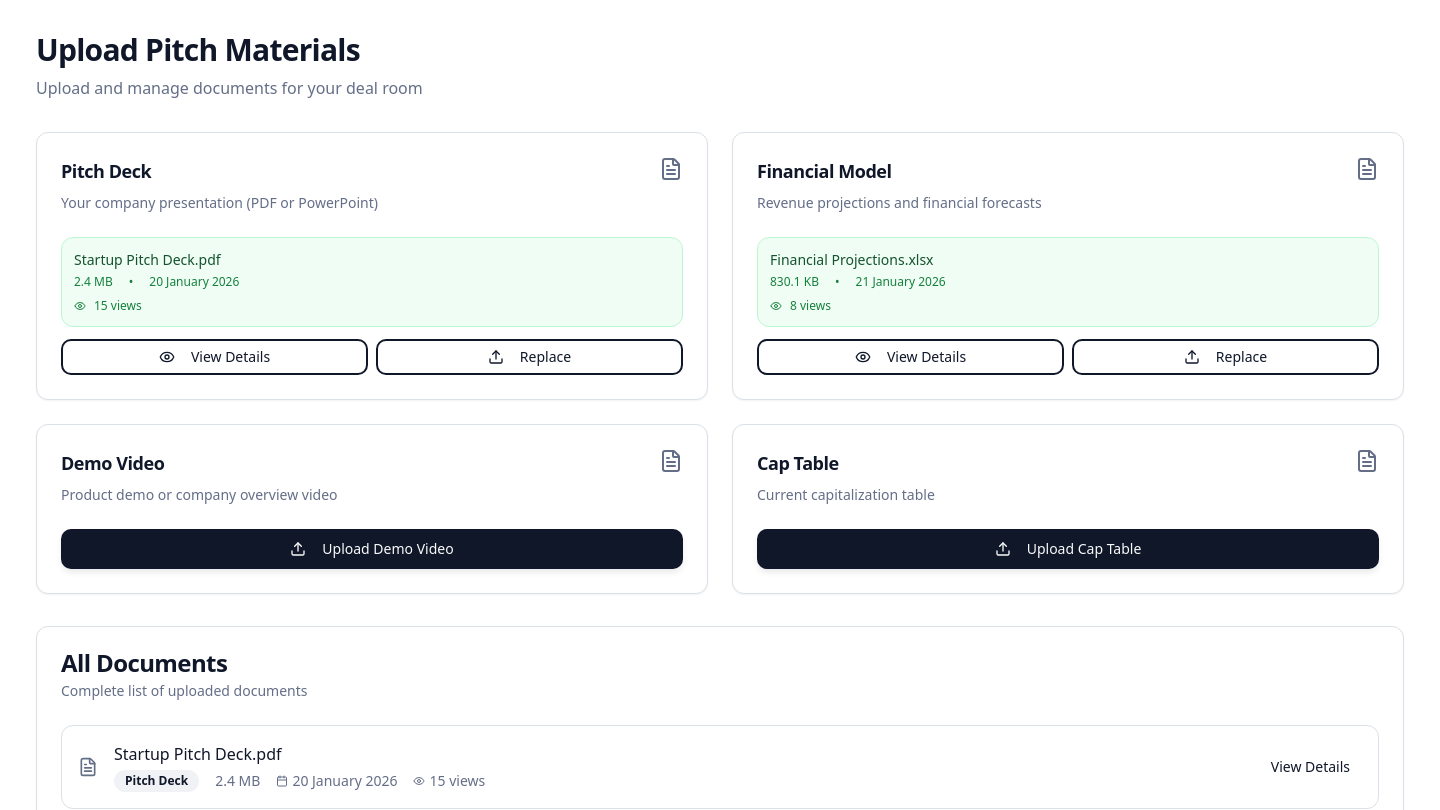
Test: US-FOUNDER-005: Upload Pitch Deck and Documents › Update Documents › should allow replacing existing document
Click the 1st button "Replace": [530, 357] box x1=376 y1=339 x2=683 y2=375
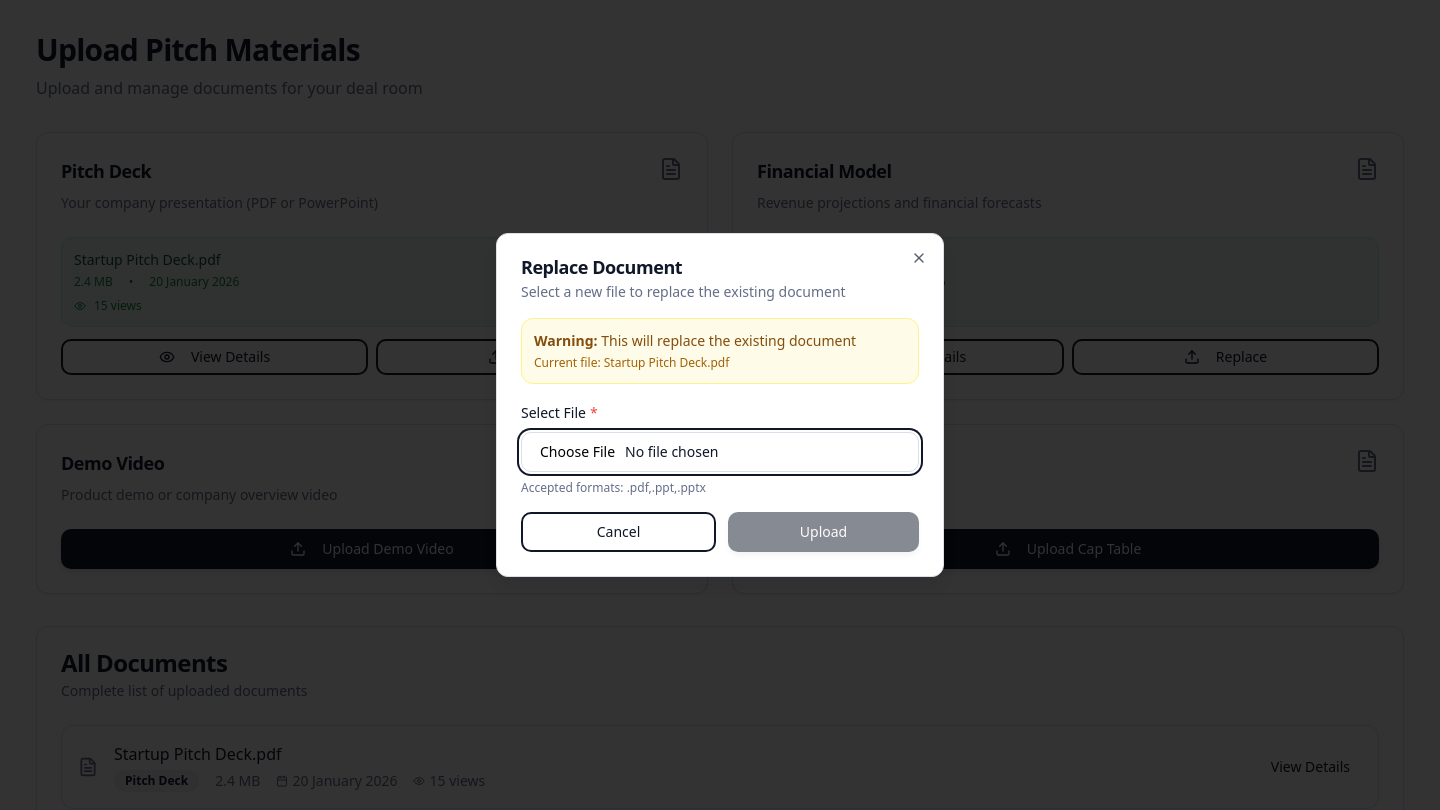
Result: the file field labelled "Select File*" is shown at x1=521 y1=432 x2=919 y2=472
